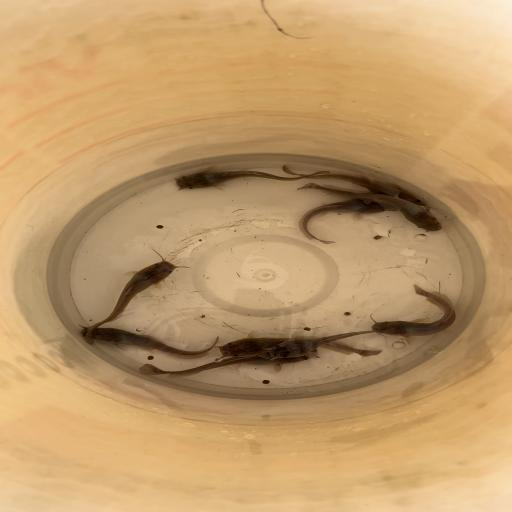lele: (83, 259, 179, 345), (296, 181, 442, 232), (282, 162, 432, 210), (261, 317, 427, 359), (136, 349, 320, 380), (77, 323, 220, 360), (370, 284, 456, 339), (206, 333, 383, 358), (297, 197, 383, 245), (158, 168, 332, 190)
